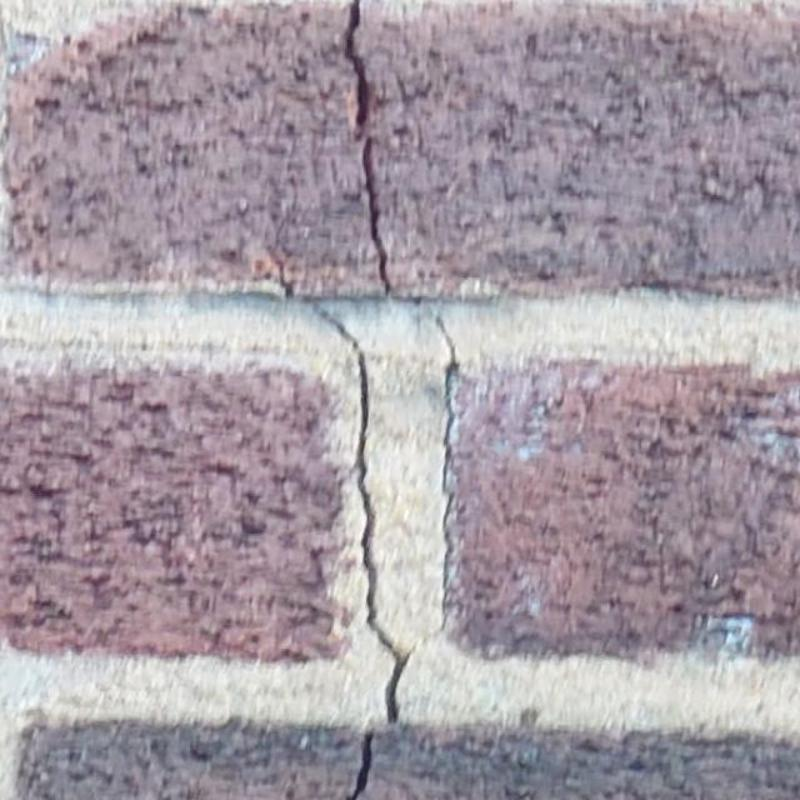pothole: (313, 303, 412, 723), (345, 0, 392, 295), (436, 314, 459, 615), (348, 731, 371, 799)
